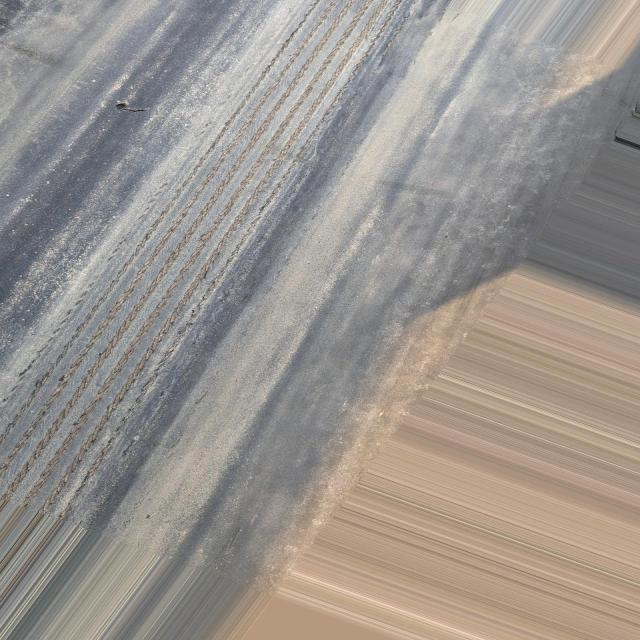Tear: (105, 86, 159, 126)
Wear: (2, 1, 423, 523)
